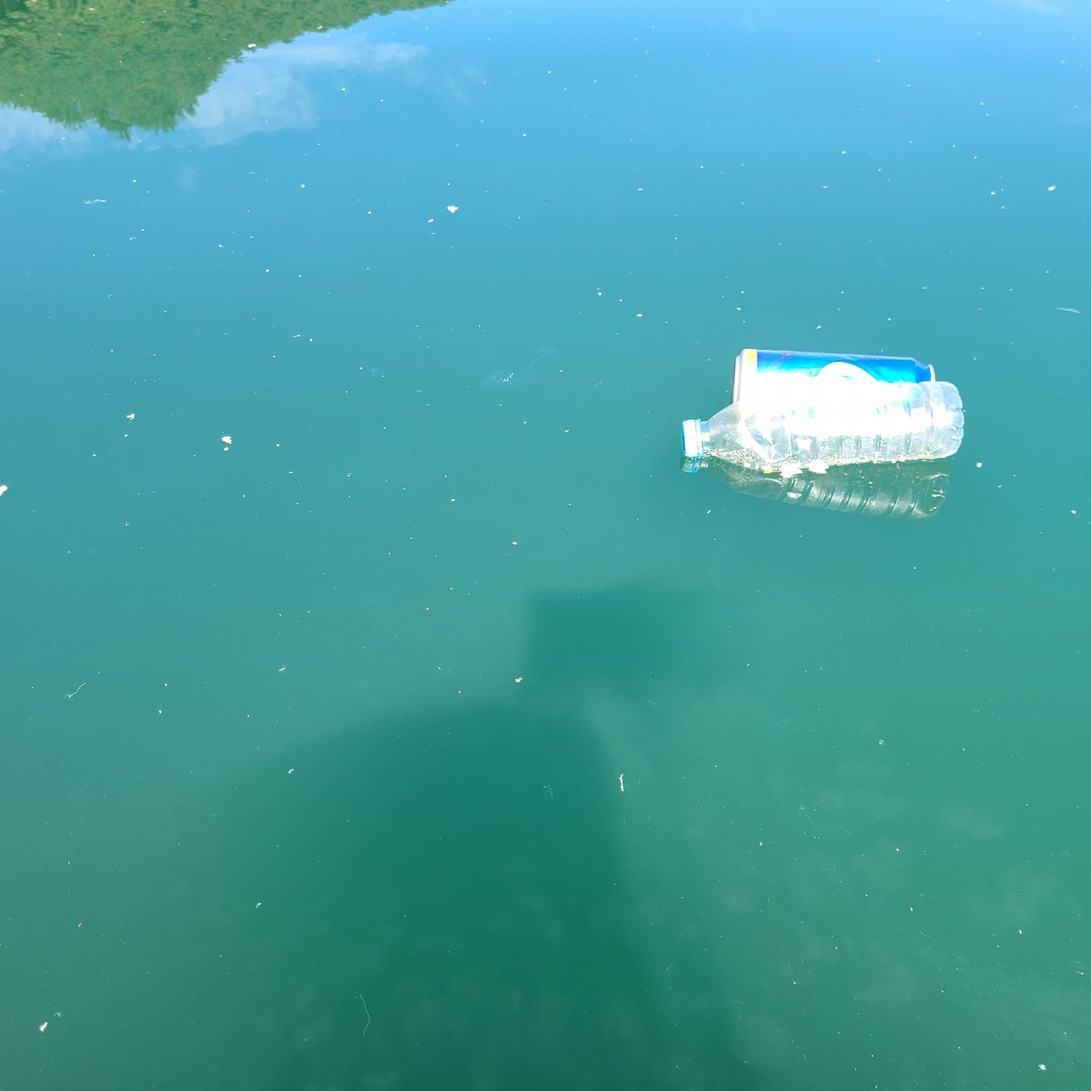sampah_terapung: (682, 381, 965, 472), (731, 349, 936, 405)
